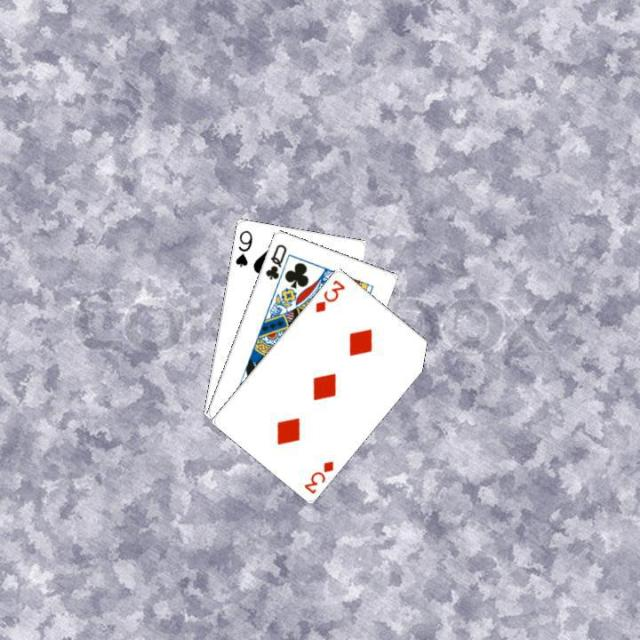3D: (311, 276, 347, 314), (300, 457, 335, 495)
9S: (231, 226, 254, 268)
QC: (261, 240, 288, 282)
